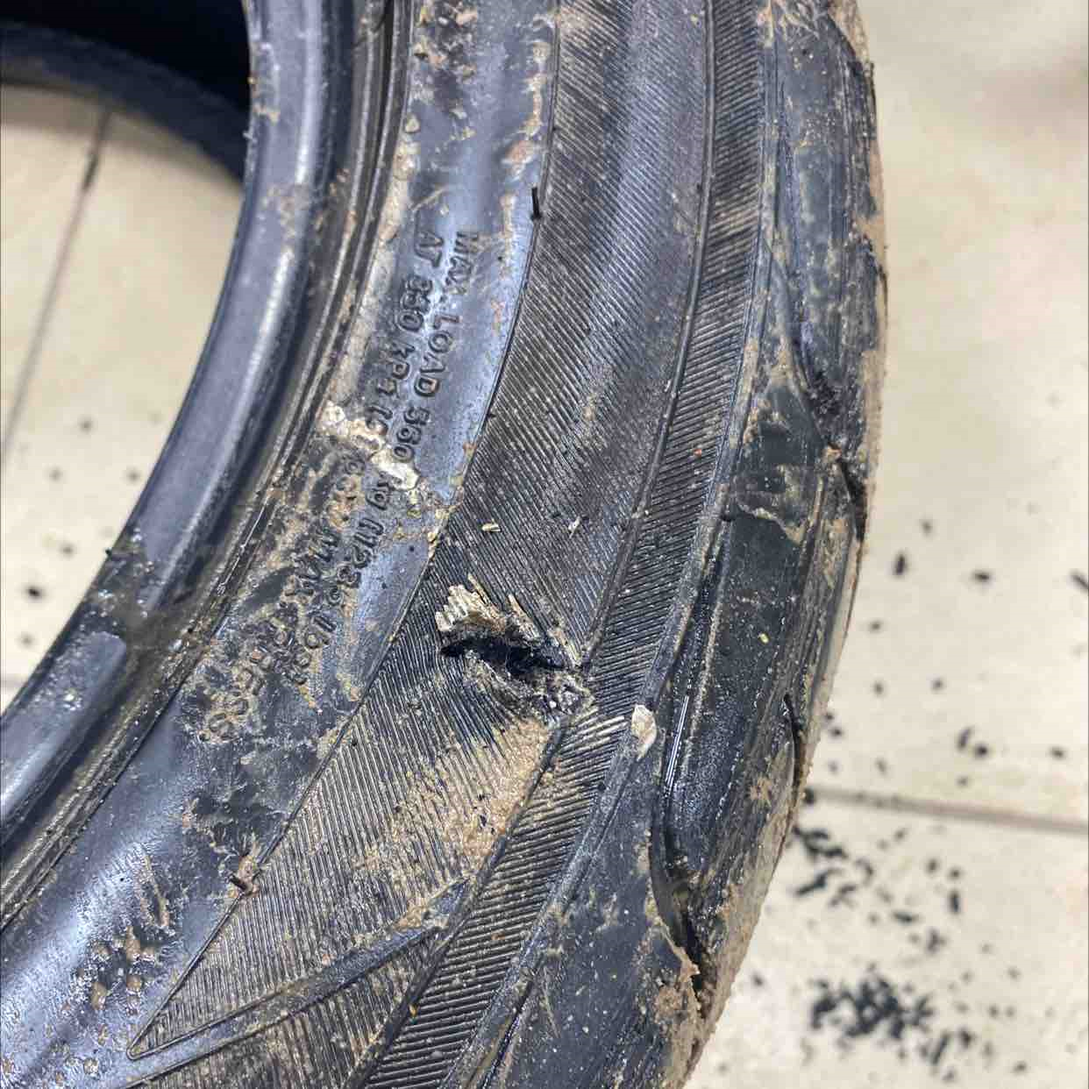cut: (427, 620, 571, 702)
